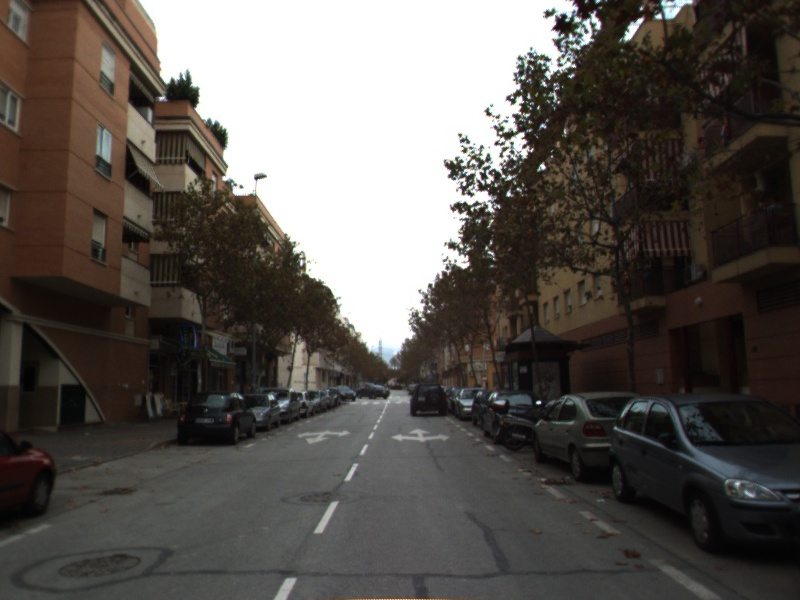STRAIGHT_LEFT_RIGHT: (390, 426, 453, 444)
